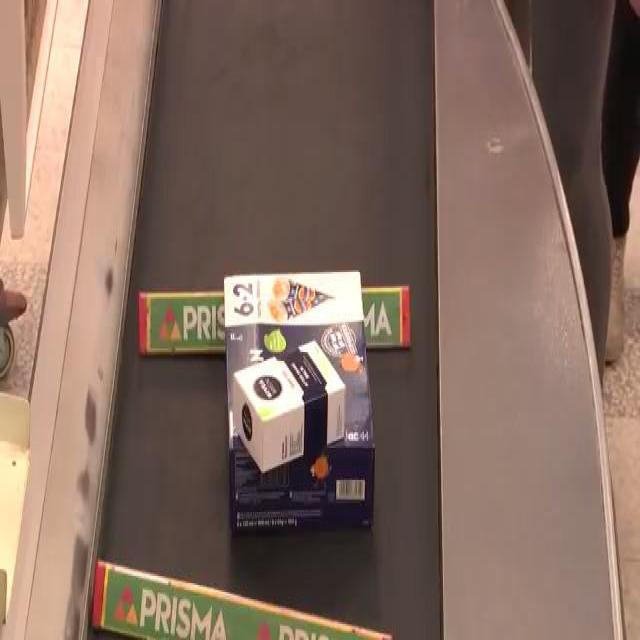utility-box: (223, 264, 365, 543), (249, 348, 334, 472)
